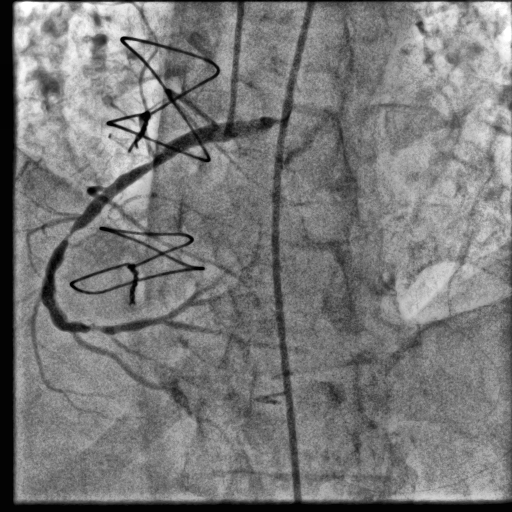pborca: (162, 289, 204, 319)
pda: (164, 320, 305, 352)
rca: (42, 121, 237, 335)
